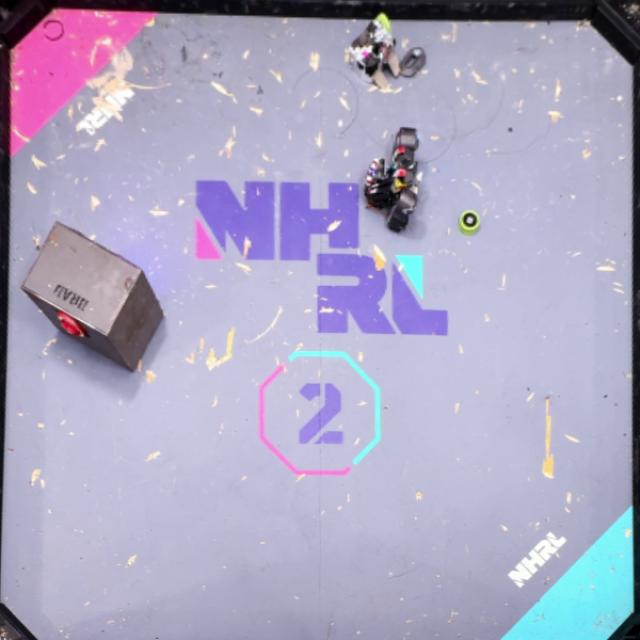housebot: (22, 220, 168, 374)
robot: (361, 126, 424, 234), (342, 12, 402, 90)
